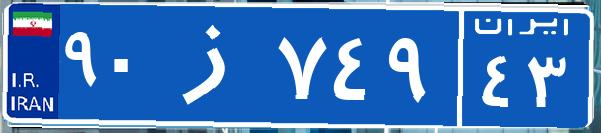0: (110, 28, 158, 105)
3: (525, 38, 570, 115)
4: (330, 28, 385, 110), (475, 38, 525, 113)
7: (273, 28, 330, 110)
9: (385, 28, 445, 110), (57, 26, 110, 107)
ز: (158, 15, 273, 115)
